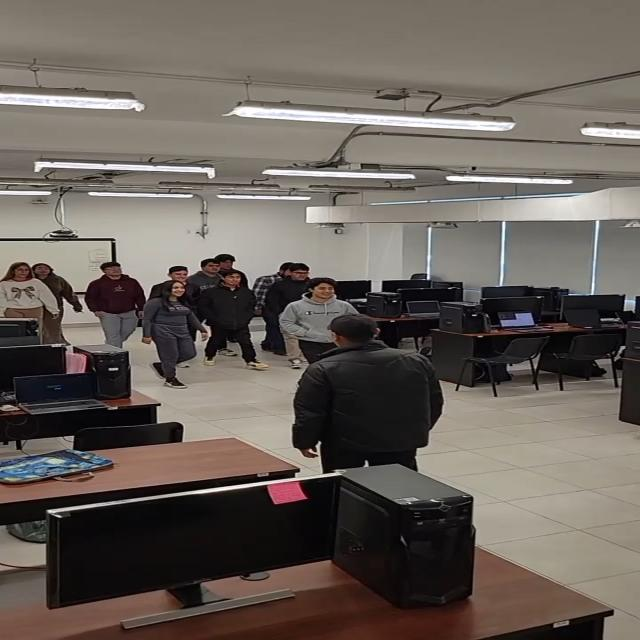Persona: (304, 317, 445, 459), (141, 279, 202, 376), (206, 272, 262, 356), (87, 262, 143, 345), (288, 277, 355, 330), (34, 258, 80, 330), (2, 264, 37, 326), (157, 267, 196, 285), (200, 259, 220, 273)
